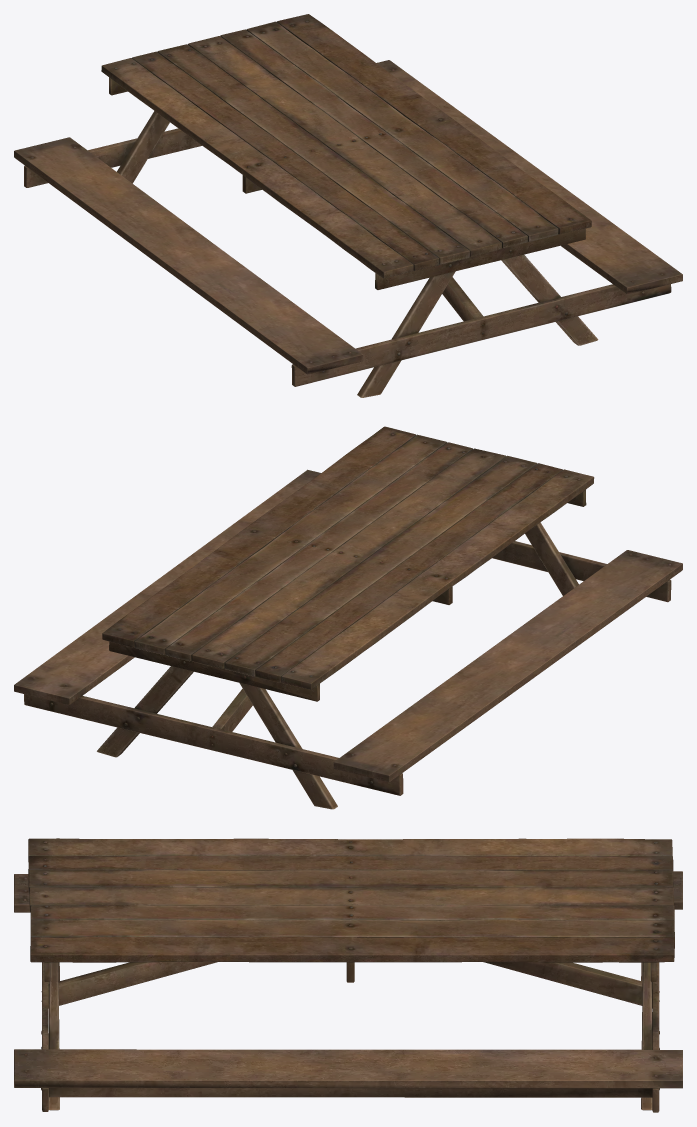
File: wooden_picnic_table.glb
3 views of the same model, one above another, from view 1: azimuth 30°, elevation 25°; view 2: azimuth 150°, elevation 25°; view 3: azimuth 270°, elevation 25° (orthographic). The views are drawn at different scales.
Parts seen in each view (by area): view 1: wooden_picnic_table; view 2: wooden_picnic_table; view 3: wooden_picnic_table.
Part boxes in pixels (x1,y1,x2,y2): wooden_picnic_table: [14, 14, 682, 397]; wooden_picnic_table: [14, 426, 682, 809]; wooden_picnic_table: [14, 838, 682, 1112].
Size of the model in its own units: 2.24 by 0.7459 by 3.02.
2 materials, 2 textured.
